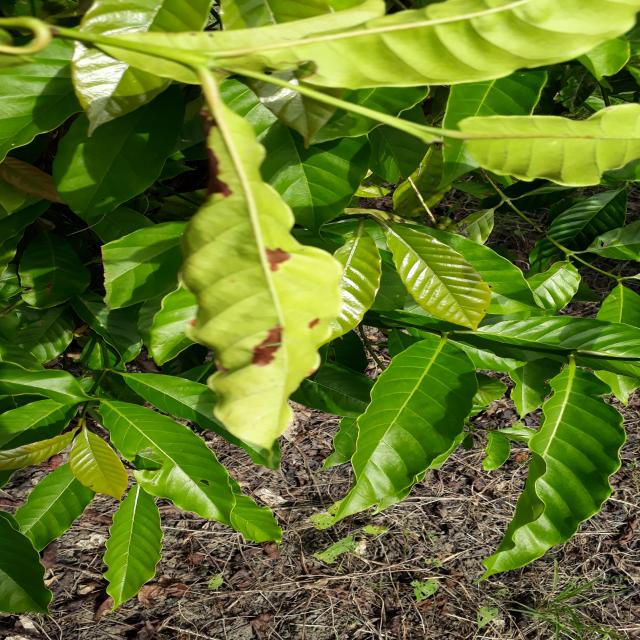Plaga-AranaRoja: (180, 136, 344, 459)
